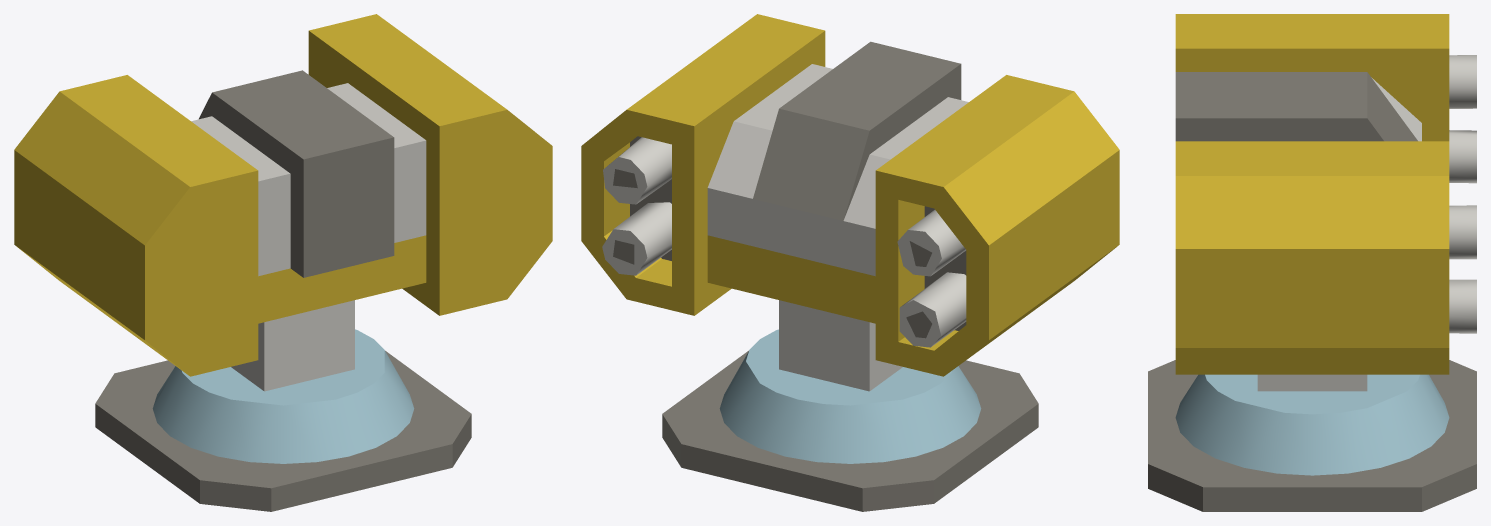
File: cc0-turret-double-lod1.glb
The picture shows the model from 3 angles, left to right: view 1: azimuth 30°, elevation 25°; view 2: azimuth 150°, elevation 25°; view 3: azimuth 270°, elevation 25°; orthographic projection. The views are drawn at different scales.
Visible parts, largest first — view 1: part_0; view 2: part_0; view 3: part_0.
Boxes of the visible parts, bbox=[...] form: part_0: bbox=[14, 14, 552, 511]; part_0: bbox=[581, 14, 1119, 511]; part_0: bbox=[1148, 14, 1476, 511].
Bounding box in the file's own units: 0.9 × 0.7 × 0.6.
